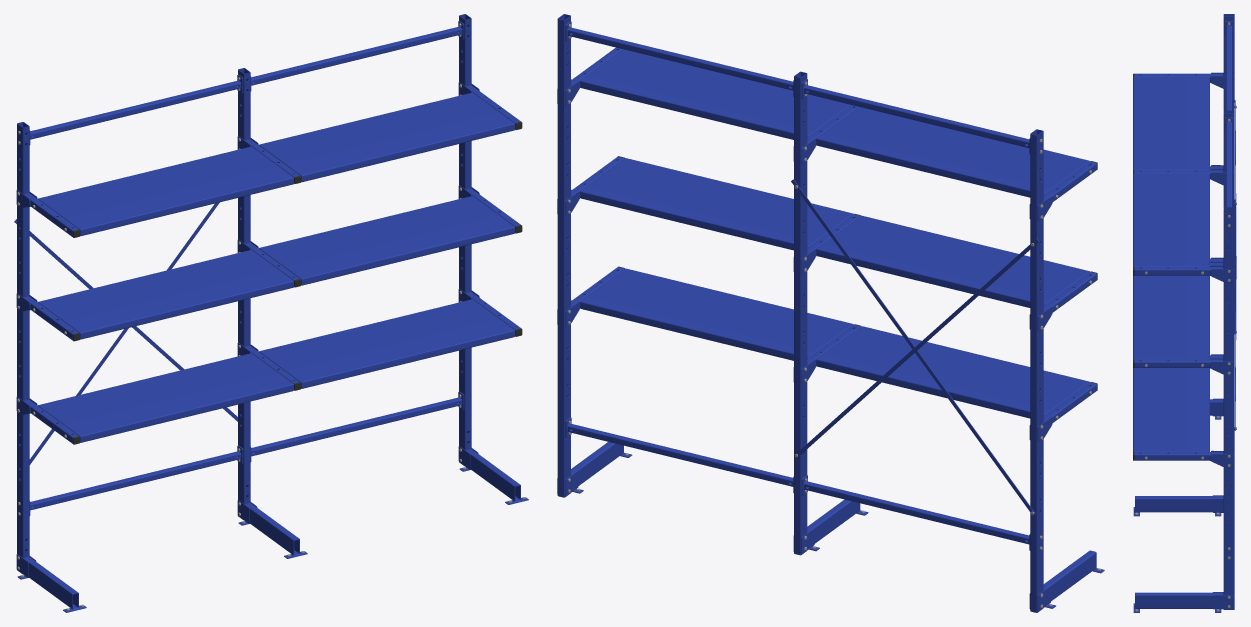
The model's file is rack_f04.glb.
3 renders of one model, left to right at view 1: azimuth 30°, elevation 25°; view 2: azimuth 150°, elevation 25°; view 3: azimuth 270°, elevation 25°, orthographic. The views are drawn at different scales.
Visible parts, largest first — view 1: sm_rack_f04_mesh_00; view 2: sm_rack_f04_mesh_00; view 3: sm_rack_f04_mesh_00.
Part boxes in pixels (left/top/right/bottom): sm_rack_f04_mesh_00: left=14, top=14, right=528, bottom=612; sm_rack_f04_mesh_00: left=557, top=14, right=1104, bottom=612; sm_rack_f04_mesh_00: left=1133, top=14, right=1236, bottom=612.
Bounding box in the file's own units: 2.11 × 1.95 × 0.4593.
3 materials, 2 textured.
